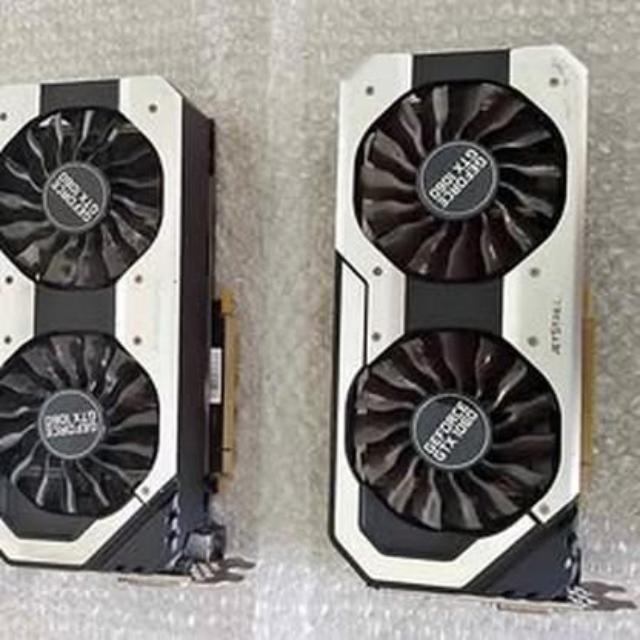GPU: (330, 29, 608, 616), (0, 74, 263, 596)
